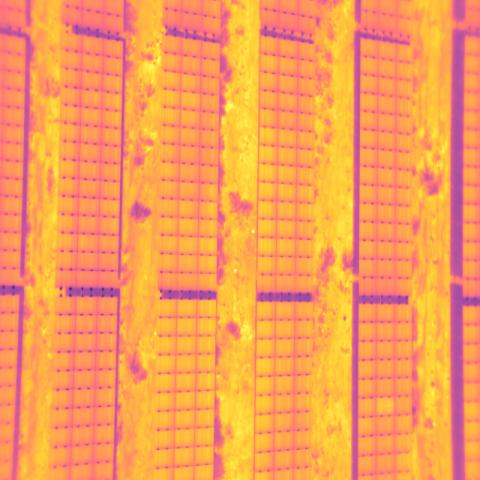fault: (376, 397, 394, 415)
